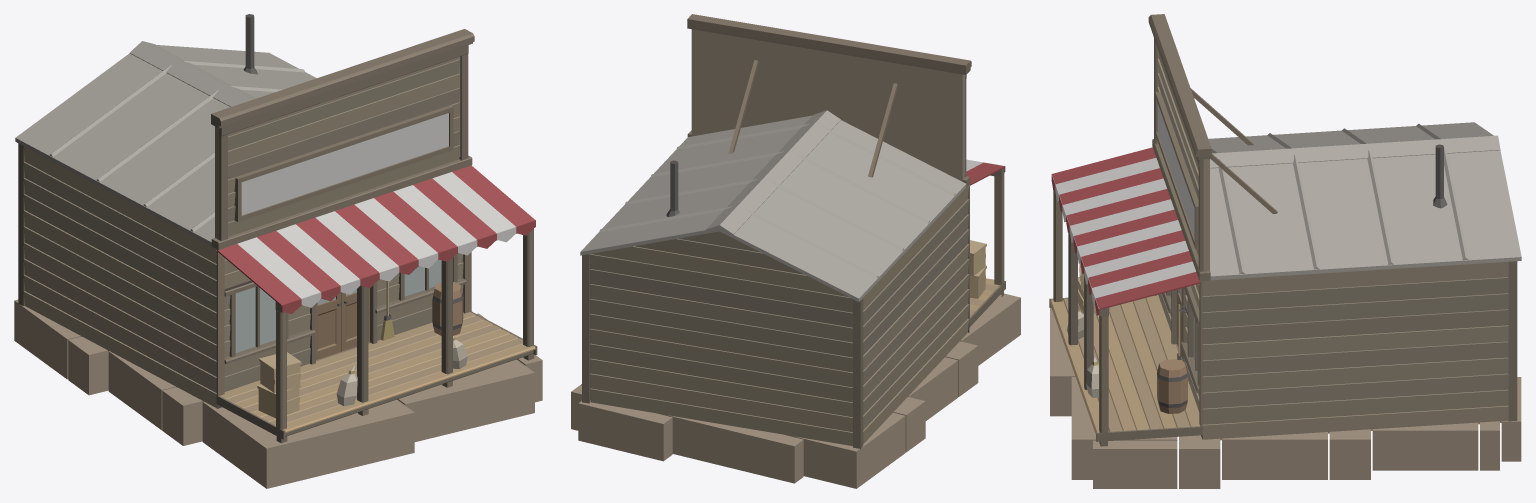
File: house_1.glb
3 renders of one model, left to right at view 1: azimuth 30°, elevation 25°; view 2: azimuth 150°, elevation 25°; view 3: azimuth 270°, elevation 25°, orthographic. The views are drawn at different scales.
Visible parts, largest first — view 1: house_1; view 2: house_1; view 3: house_1.
Part boxes in pixels (x1,y1,x2,y2): house_1: [14, 14, 542, 488]; house_1: [571, 14, 1020, 488]; house_1: [1049, 14, 1521, 488].
Bounding box in the file's own units: 8.98 × 8.5 × 10.99.
